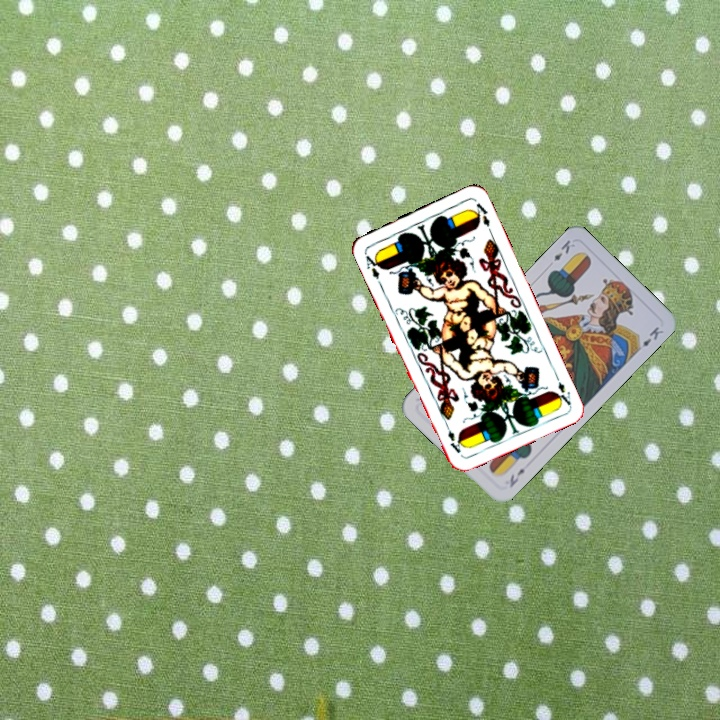EA: (550, 369, 574, 408), (360, 248, 384, 282)
EK: (550, 236, 578, 264), (505, 464, 528, 490)
